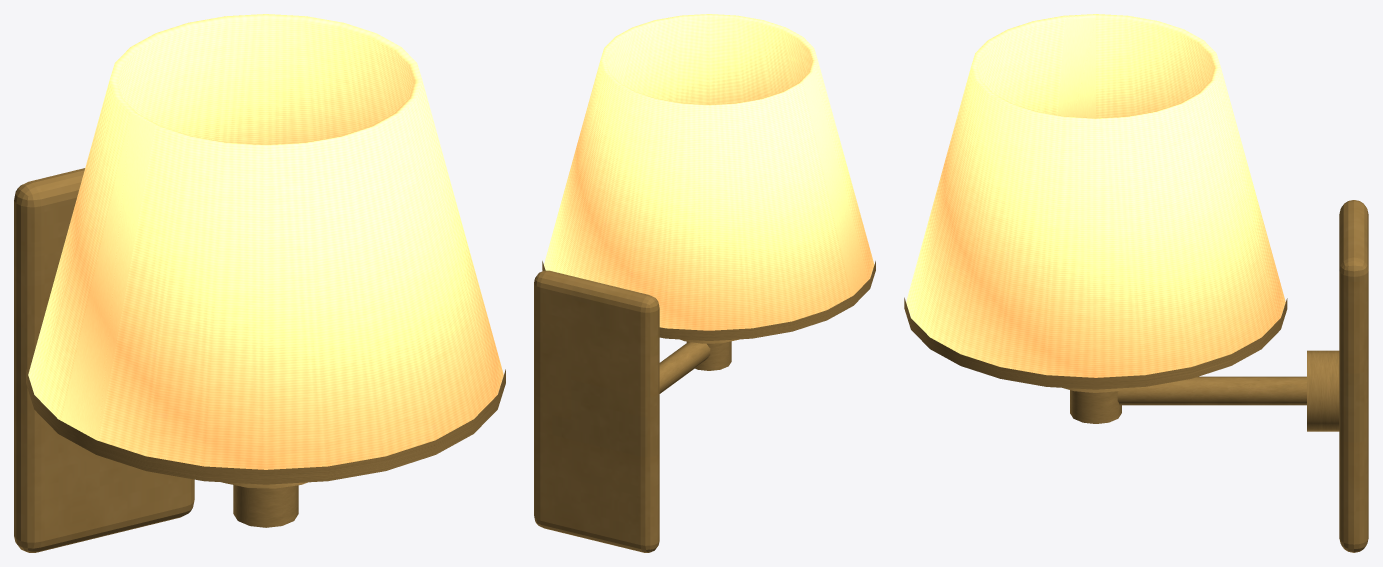
Rendered from модель настенного бра.glb.
3 views of the same model, side by side, from view 1: azimuth 30°, elevation 25°; view 2: azimuth 150°, elevation 25°; view 3: azimuth 270°, elevation 25° (orthographic). The views are drawn at different scales.
Visible parts, largest first — view 1: Shade, Backplate, Shade_Rim, Arm_Elbow; view 2: Shade, Backplate, Shade_Rim, Arm, Arm_Elbow; view 3: Shade, Backplate, Arm, Shade_Rim, Backplate_Boss, Arm_Elbow.
Boxes of the visible parts, x1,y1,x2,y2 form: Shade: (28, 14, 503, 469); Backplate: (14, 168, 194, 552); Shade_Rim: (26, 369, 505, 484); Arm_Elbow: (233, 485, 298, 527); Shade: (544, 14, 874, 330); Backplate: (534, 270, 659, 552); Shade_Rim: (542, 261, 875, 340); Arm: (659, 342, 710, 393); Arm_Elbow: (686, 341, 731, 370); Shade: (906, 14, 1285, 377); Backplate: (1339, 200, 1368, 552); Arm: (1117, 376, 1306, 405); Shade_Rim: (904, 297, 1287, 389); Backplate_Boss: (1307, 350, 1339, 431); Arm_Elbow: (1070, 390, 1121, 423).
Size of what is drawn, in the model's own units: 0.236 by 0.3105 by 0.286.
3 materials, 2 textured.
